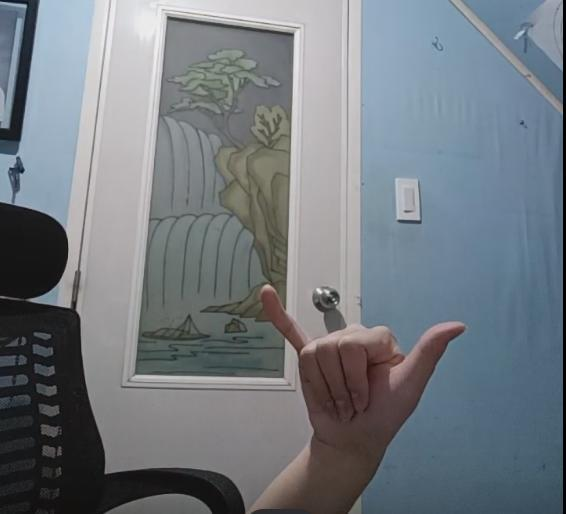y: (259, 280, 466, 446)
